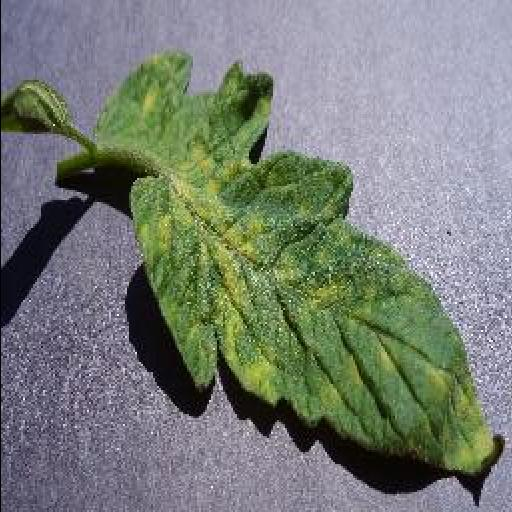disease_tomato: (97, 54, 503, 478)
